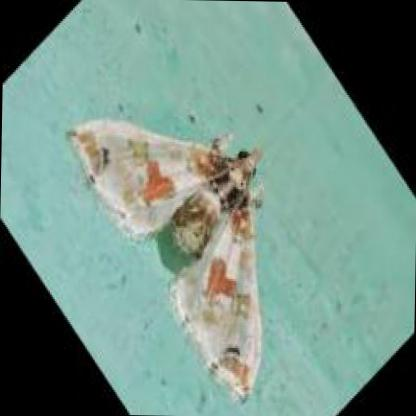leucinodes: (65, 116, 262, 408)
